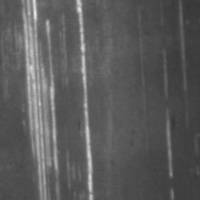scratches: (17, 5, 64, 200), (67, 2, 102, 200), (172, 0, 193, 93), (160, 102, 178, 193)
